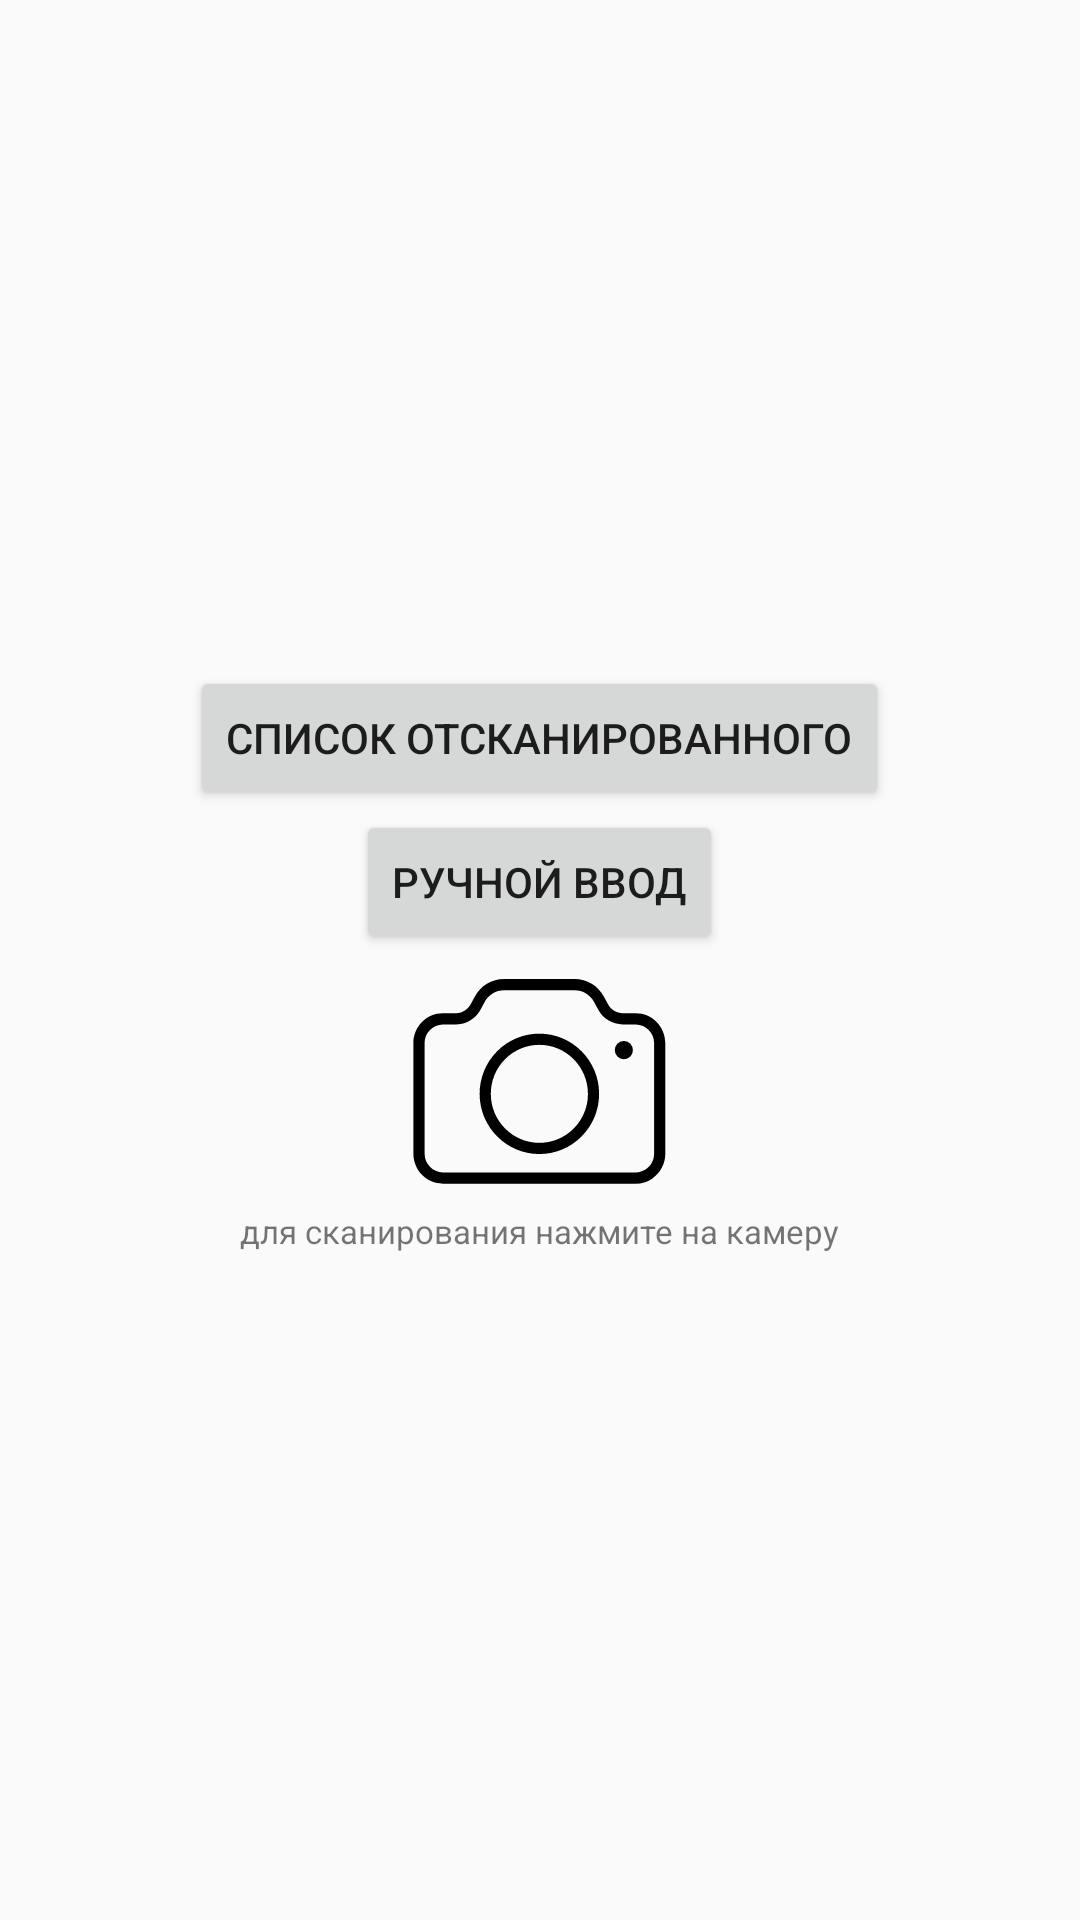

Where icons sit on this 1080 x 1920 app screen, as (x1, y1, x2, y2):
Camera: (413, 979, 666, 1184)
